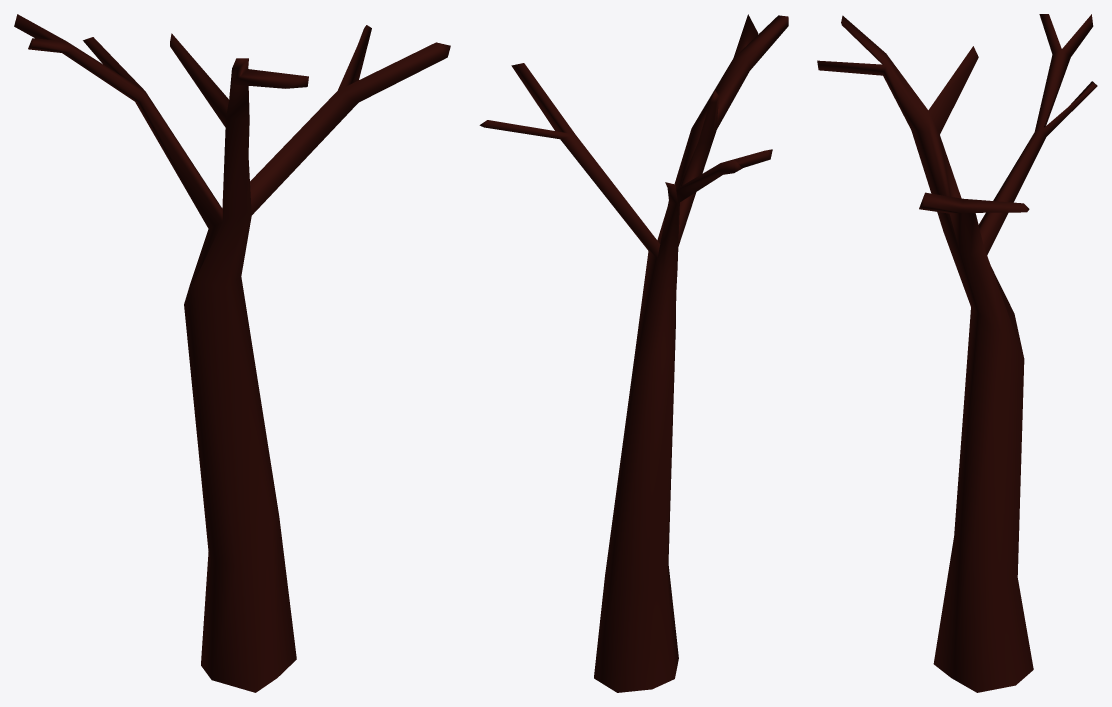
The model's file is low-poly-dead-tree.obj.
The picture shows the model from 3 angles, left to right: view 1: azimuth 30°, elevation 25°; view 2: azimuth 150°, elevation 25°; view 3: azimuth 270°, elevation 25°; orthographic projection. The views are drawn at different scales.
Parts seen in each view (by area): view 1: Circle_Circle; view 2: Circle_Circle; view 3: Circle_Circle.
Part boxes in pixels (bbox=[...]): Circle_Circle: bbox=[14, 14, 450, 692]; Circle_Circle: bbox=[479, 14, 788, 692]; Circle_Circle: bbox=[817, 14, 1097, 692].
Size of the model in its own units: 7.64 by 14.18 by 5.83.
